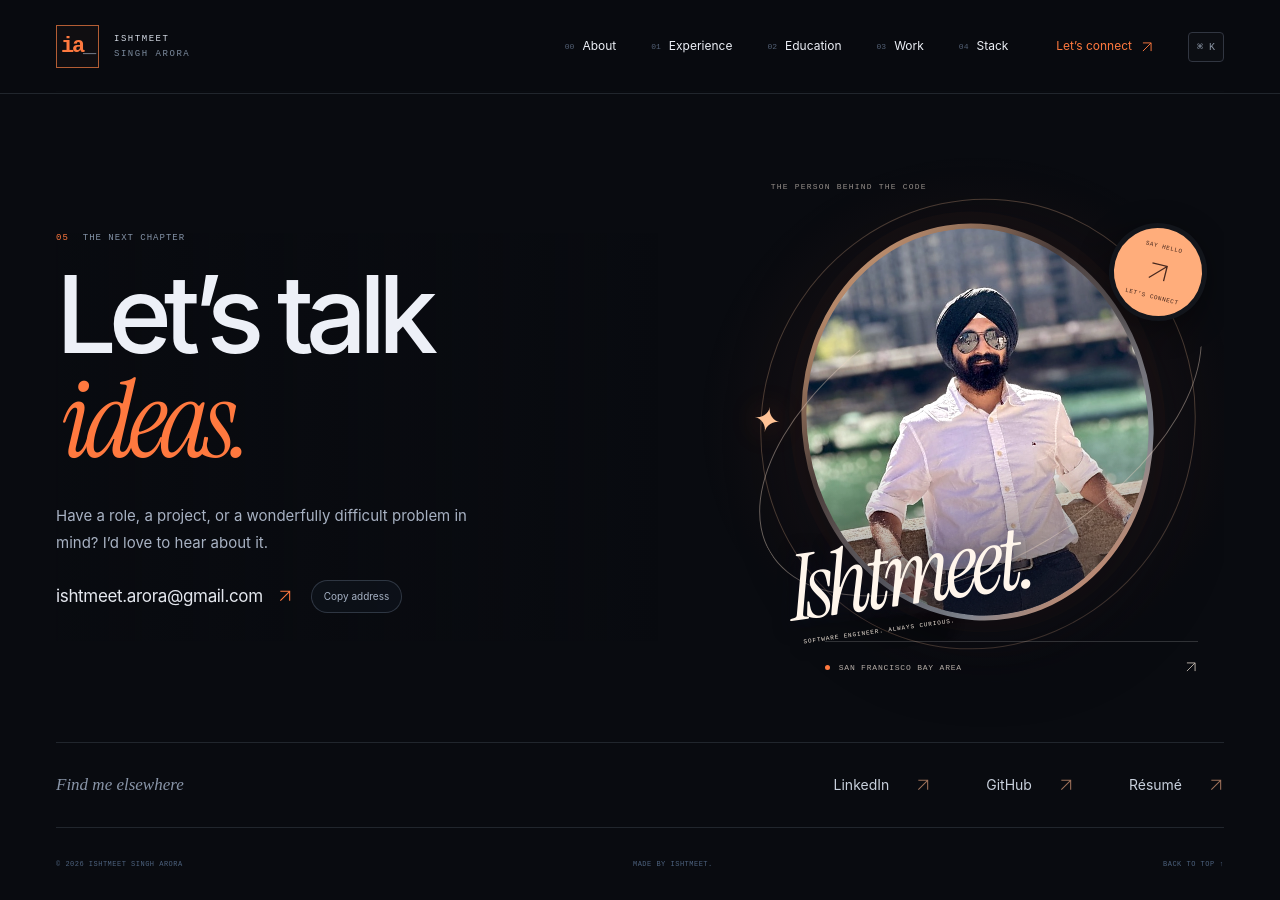
provides a fallback when clipboard permission is denied
(page scrolled)
Click the button with class "copy-email": (356, 596) [311, 580, 402, 613]
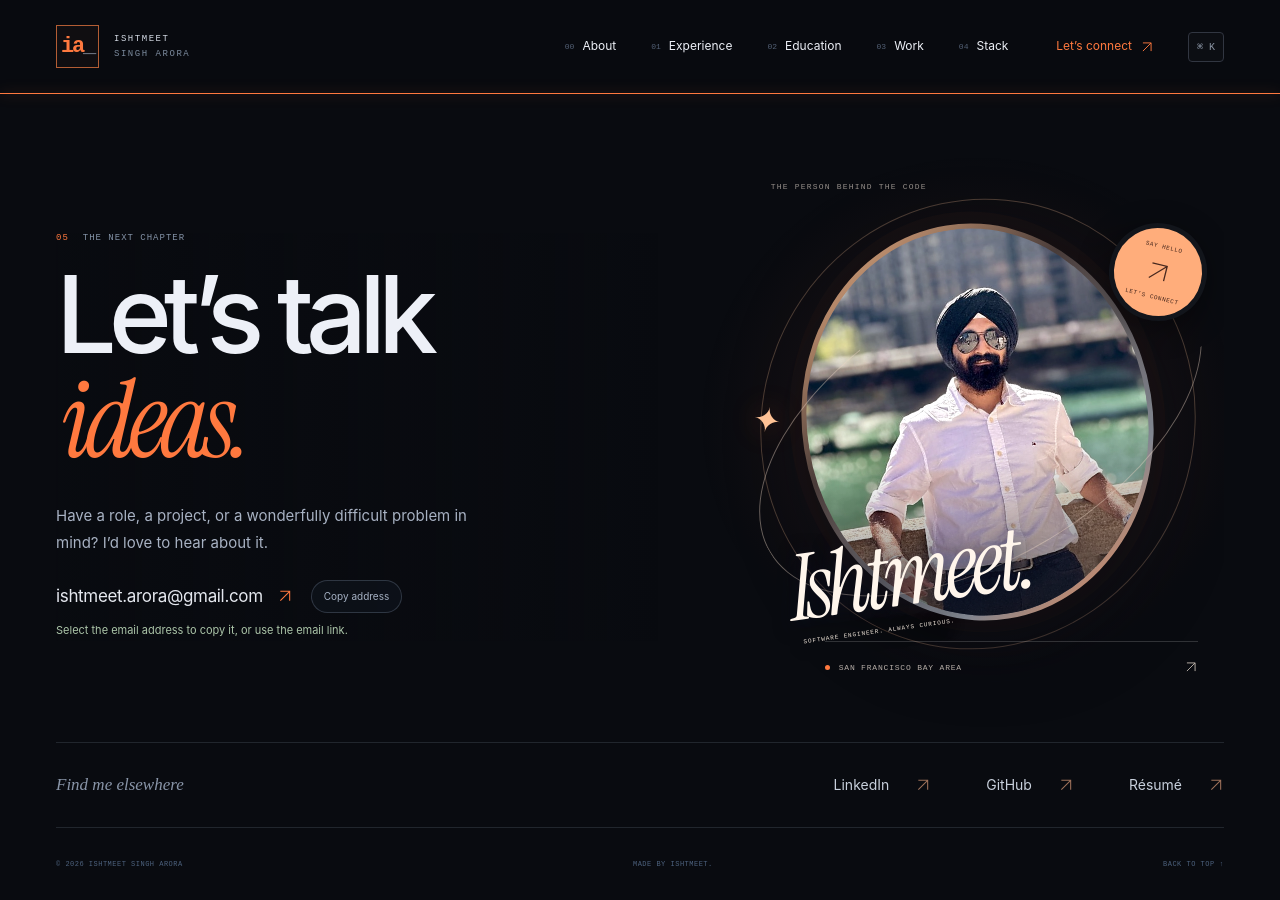
Now the message with class "copy-status" shows "Select the email", box [56, 623, 348, 637]
